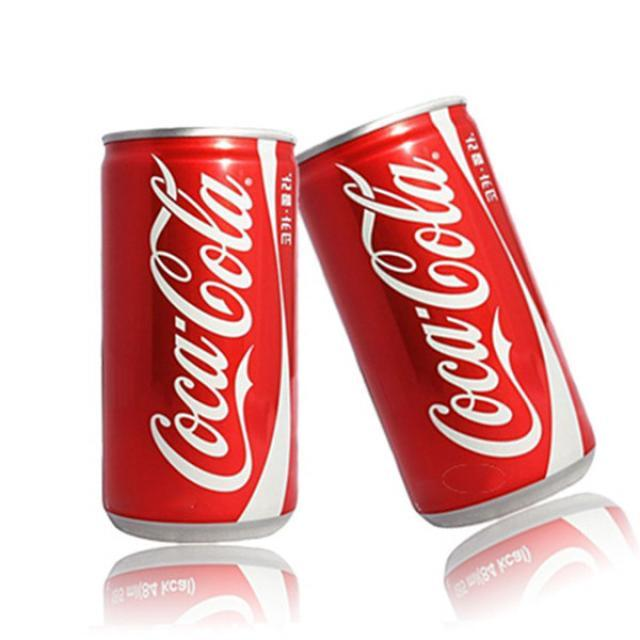coca-cola: (299, 93, 599, 534), (95, 118, 299, 546)
